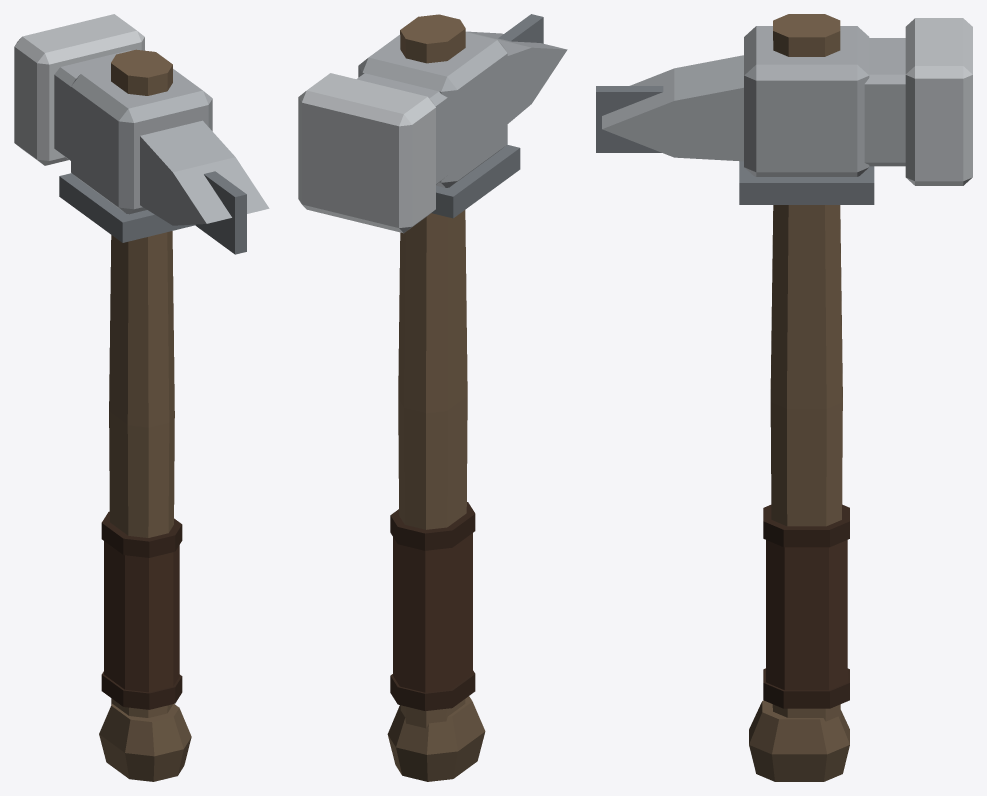
Rendered from Hammer.glb.
3 renders of one model, left to right at view 1: azimuth 30°, elevation 25°; view 2: azimuth 150°, elevation 25°; view 3: azimuth 270°, elevation 25°, orthographic. The views are drawn at different scales.
Parts seen in each view (by area): view 1: Handle, Head; view 2: Handle, Head; view 3: Head, Handle.
Boxes of the visible parts, <box> form: Handle: <box>99,49,191,781</box>; Head: <box>14,14,269,254</box>; Handle: <box>387,14,485,781</box>; Head: <box>298,14,567,233</box>; Head: <box>596,18,972,204</box>; Handle: <box>749,14,849,781</box>.
Bounding box in the file's own units: 0.55 × 3.4 × 1.56.
